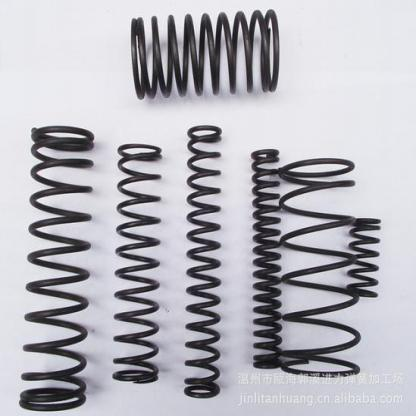FOD: (10, 119, 99, 415), (279, 152, 361, 379), (130, 7, 283, 102), (178, 122, 227, 401), (109, 139, 163, 388), (248, 146, 286, 369), (348, 214, 382, 299)
